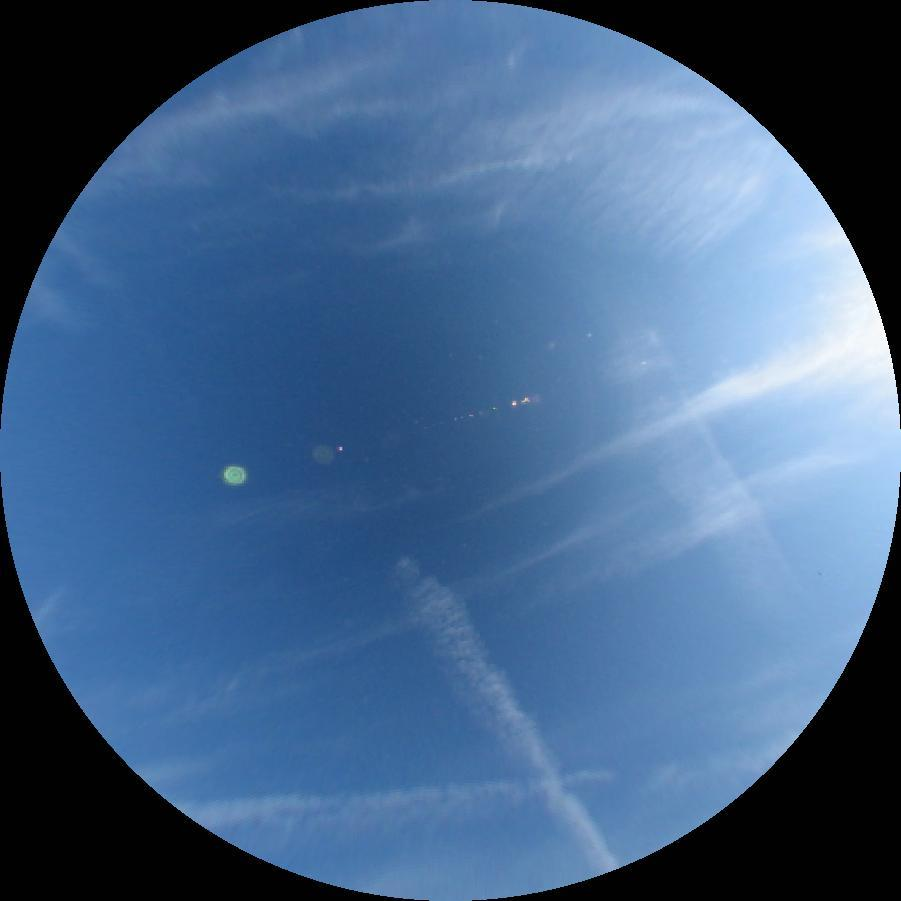contrail veryold: (387, 547, 630, 885), (179, 741, 796, 852), (588, 323, 792, 610)
